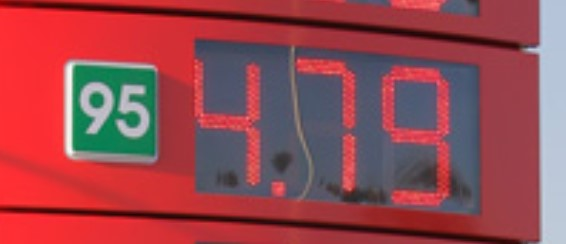digits: (185, 37, 273, 194), (374, 61, 459, 210), (290, 52, 359, 202)
